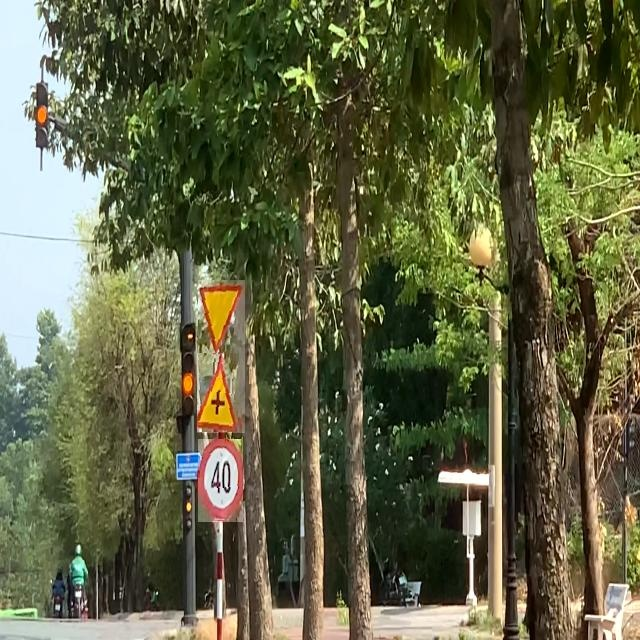bien_cam: (197, 354, 245, 434), (198, 439, 243, 522), (198, 280, 245, 358)
